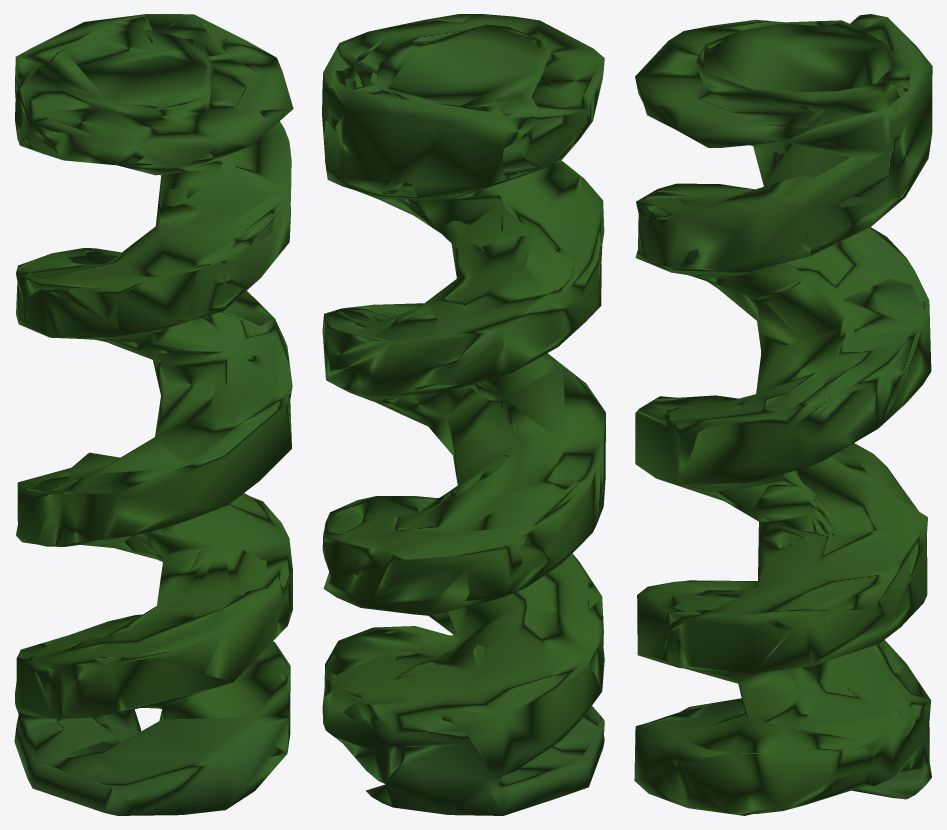
The model's file is gen3d-helix-lod0.glb.
3 renders of one model, left to right at view 1: azimuth 30°, elevation 25°; view 2: azimuth 150°, elevation 25°; view 3: azimuth 270°, elevation 25°, orthographic. The views are drawn at different scales.
Parts seen in each view (by area): view 1: part_0; view 2: part_0; view 3: part_0.
Part boxes in pixels (x1=…): part_0: x1=14, y1=14, x2=293, y2=815; part_0: x1=322, y1=14, x2=605, y2=815; part_0: x1=634, y1=14, x2=932, y2=815.
Bounding box in the file's own units: 0.3736 × 1 × 0.3751.
